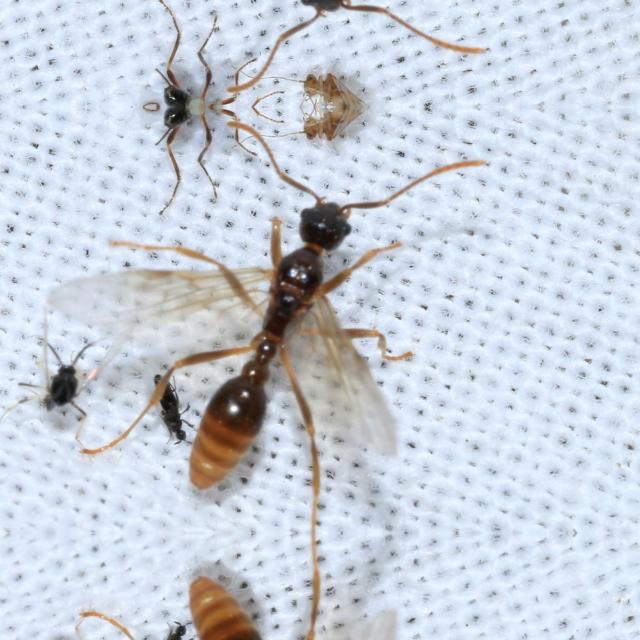Myrmica: (122, 140, 428, 502), (121, 562, 426, 640)
